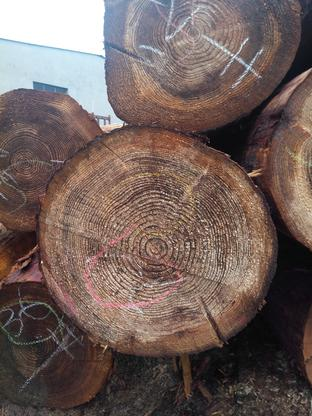mood: (37, 127, 279, 358)
